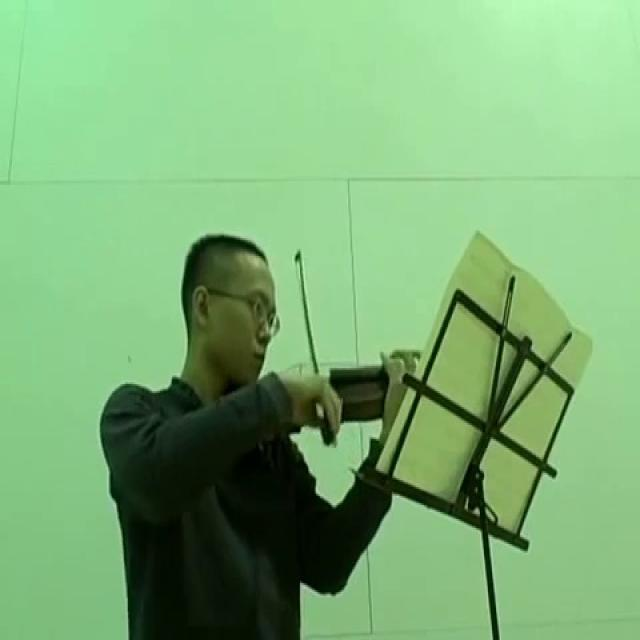Violin: (242, 338, 427, 446)
